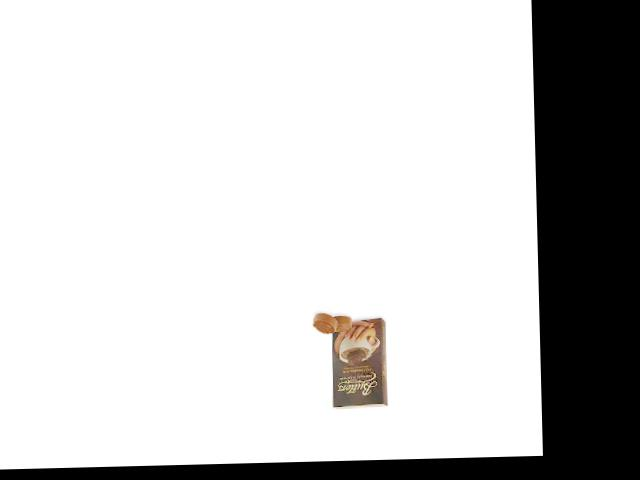chocolate: (323, 315, 391, 412)
